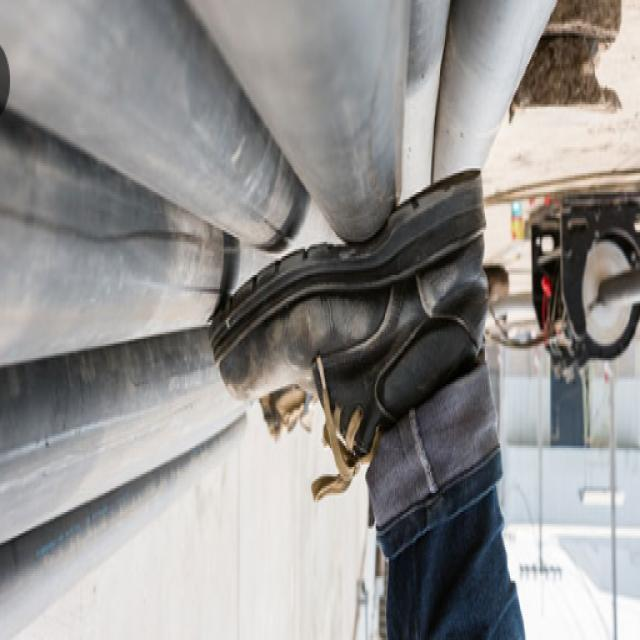shoes: (207, 157, 506, 513)
